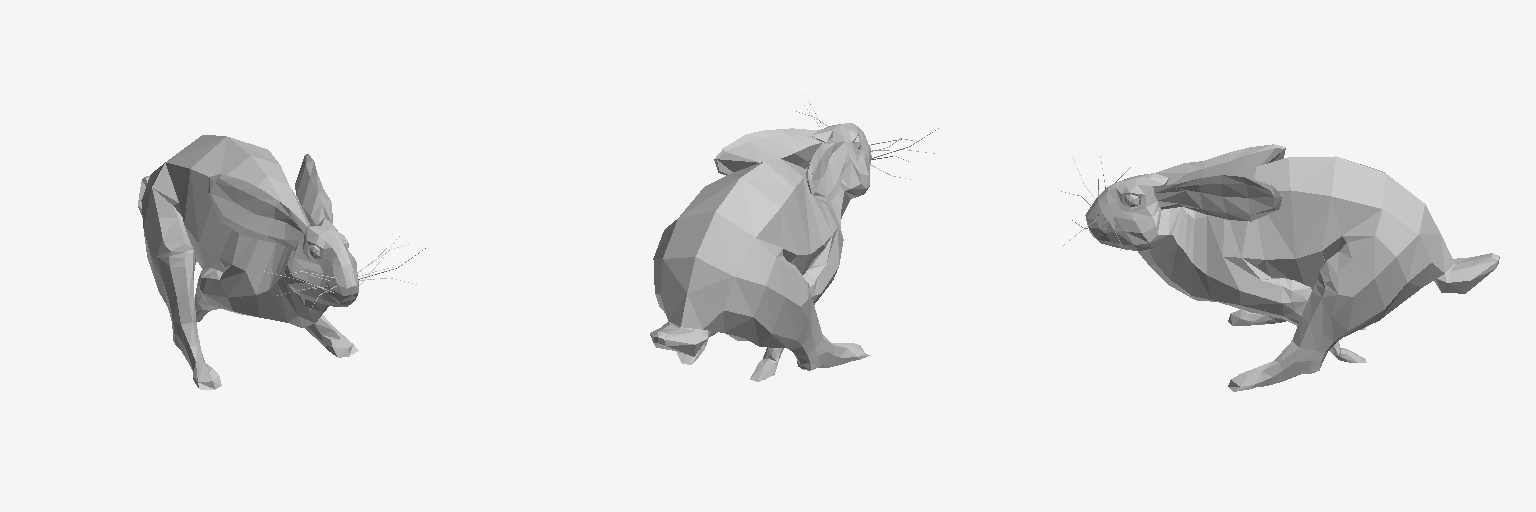
Rendered from rabbit_000014.obj.
3 views of the same model, side by side, from view 1: azimuth 30°, elevation 25°; view 2: azimuth 150°, elevation 25°; view 3: azimuth 270°, elevation 25° (orthographic).
Visible parts, largest first — view 1: Rabbit_Cylinder; view 2: Rabbit_Cylinder; view 3: Rabbit_Cylinder.
Part boxes in pixels (x1,y1,x2,y2): Rabbit_Cylinder: (138,135,425,389); Rabbit_Cylinder: (650,95,938,381); Rabbit_Cylinder: (1061,144,1499,391).
Size of the model in its own units: 8.03 by 9.55 by 19.18.